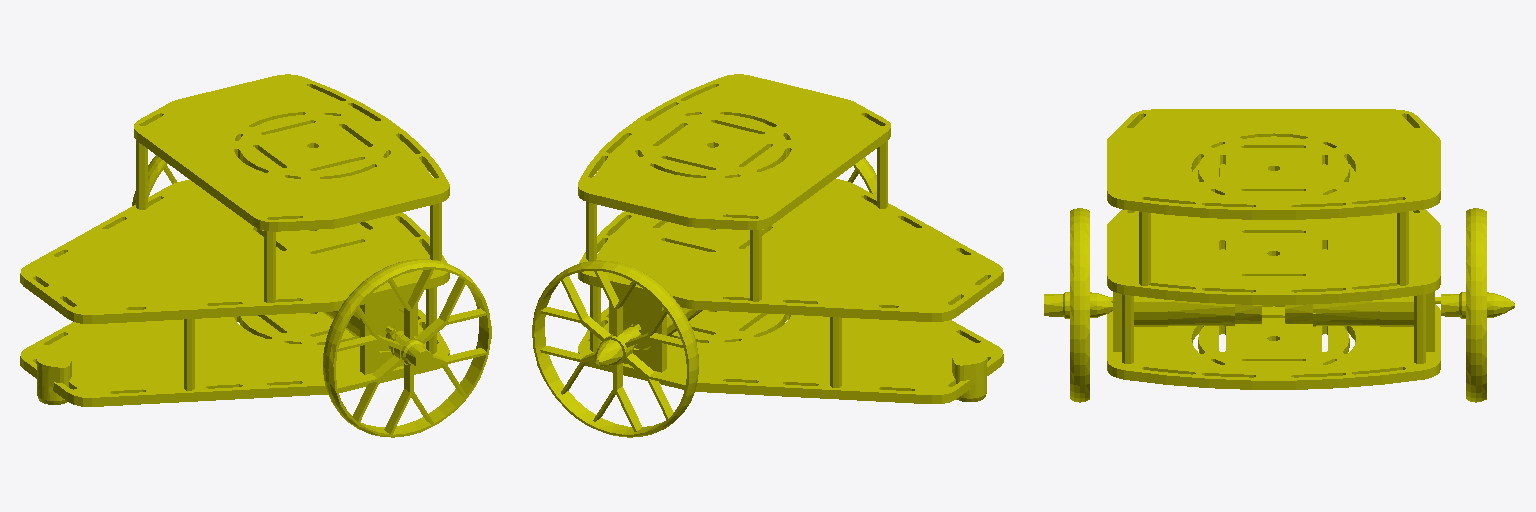
URDF robot description (Puzzlebot_Jetson_Lidar_Ed.):
<?xml version="1.0"?>
<robot name="Puzzlebot_Jetson_Lidar_Ed.">

    <!--LINKS-->

    <link name="base_footprint"/>

    <link name="base_link">
        <visual>
            <origin xyz="0 0 0" rpy="0 0 0"/>
            <geometry>
                <mesh filename="package://puzzlebot_sim/meshes/Puzzlebot_Jetson_Lidar_Edition_Base.stl"/>
            </geometry>
            <material name="yellow">
                <color rgba="0.8 0.8 0.05 1.0"/>
            </material>
        </visual>
  </link>

  <link name="wheel_r_link">
        <visual>
            <origin xyz="0 0 0" rpy="1.5708 0 0"/>
            <geometry>
                <mesh filename="package://puzzlebot_sim/meshes/Puzzlebot_Wheel.stl"/>
            </geometry>
            <material name="yellow">
                <color rgba="0.8 0.8 0.05 1.0"/>
            </material>
        </visual>
  </link>

  <link name="wheel_l_link">
        <visual>
            <origin xyz="0 0 0" rpy="1.5708 0 0"/>
            <geometry>
                <mesh filename="package://puzzlebot_sim/meshes/Puzzlebot_Wheel.stl"/>
            </geometry>
            <material name="yellow">
                <color rgba="0.8 0.8 0.05 1.0"/>
            </material>
        </visual>
  </link>

  <link name="caster_link">
        <visual>
            <origin xyz="0 0 0" rpy="0 0 0"/>
            <geometry>
                <mesh filename="package://puzzlebot_sim/meshes/Puzzlebot_Caster_Wheel.stl"/>
            </geometry>
            <material name="yellow">
                <color rgba="0.8 0.8 0.05 1.0"/>
            </material>
        </visual>
  </link>

    <!--JOINTS-->

    <joint name="base_link_joint" type="fixed">
        <parent link="base_footprint"/>
        <child link="base_link"/>
        <origin xyz="0 0 0.05" rpy="0 0 0"/>
    </joint>

    <joint name="wheel_r_joint" type="continuous">
        <parent link="base_link"/>
        <child link="wheel_r_link"/>
        <origin xyz="0.052 -0.095 -0.0025" rpy="0 0 0"/>
        <axis xyz="0 1 0"/>
    </joint>

    <joint name="wheel_l_joint" type="continuous">
        <parent link="base_link"/>
        <child link="wheel_l_link"/>
        <origin xyz="0.052 0.095 -0.0025" rpy="0 0 0"/>
        <axis xyz="0 1 0"/>
    </joint>

    <joint name="caster_joint" type="fixed">
        <parent link="base_link"/>
        <child link="caster_link"/>
        <origin xyz="-0.095 0 -0.03" rpy="0 0 0"/>
    </joint>


</robot>

--- What the picture shows (computed from the rendered views, not written in the file) ---
The picture shows the robot from 3 angles, left to right: view 1: azimuth 30°, elevation 25°; view 2: azimuth 150°, elevation 25°; view 3: azimuth 270°, elevation 25°; orthographic projection.
Robot: Puzzlebot_Jetson_Lidar_Ed. — 5 links, 4 joints (2 continuous, 2 fixed); root link base_footprint; default pose: every joint at zero.
Visible links, largest first — view 1: base_link, wheel_r_link, caster_link; view 2: base_link, wheel_l_link, caster_link, wheel_r_link; view 3: base_link, wheel_l_link, wheel_r_link.
Boxes of the visible links, x1,y1,x2,y2 form: base_link: (20,74,449,406); wheel_r_link: (323,259,491,437); caster_link: (37,350,71,404); base_link: (578,74,1003,403); wheel_l_link: (532,260,698,437); caster_link: (952,348,986,401); wheel_r_link: (848,158,876,195); base_link: (1107,109,1440,389); wheel_l_link: (1441,208,1514,402); wheel_r_link: (1044,208,1112,402).
Bounding box of the posed robot: 0.2036 × 0.2259 × 0.1192 m (x, y, z).
Meshes: 3 distinct files referenced, 4 mesh visuals loaded (3 binary STL).